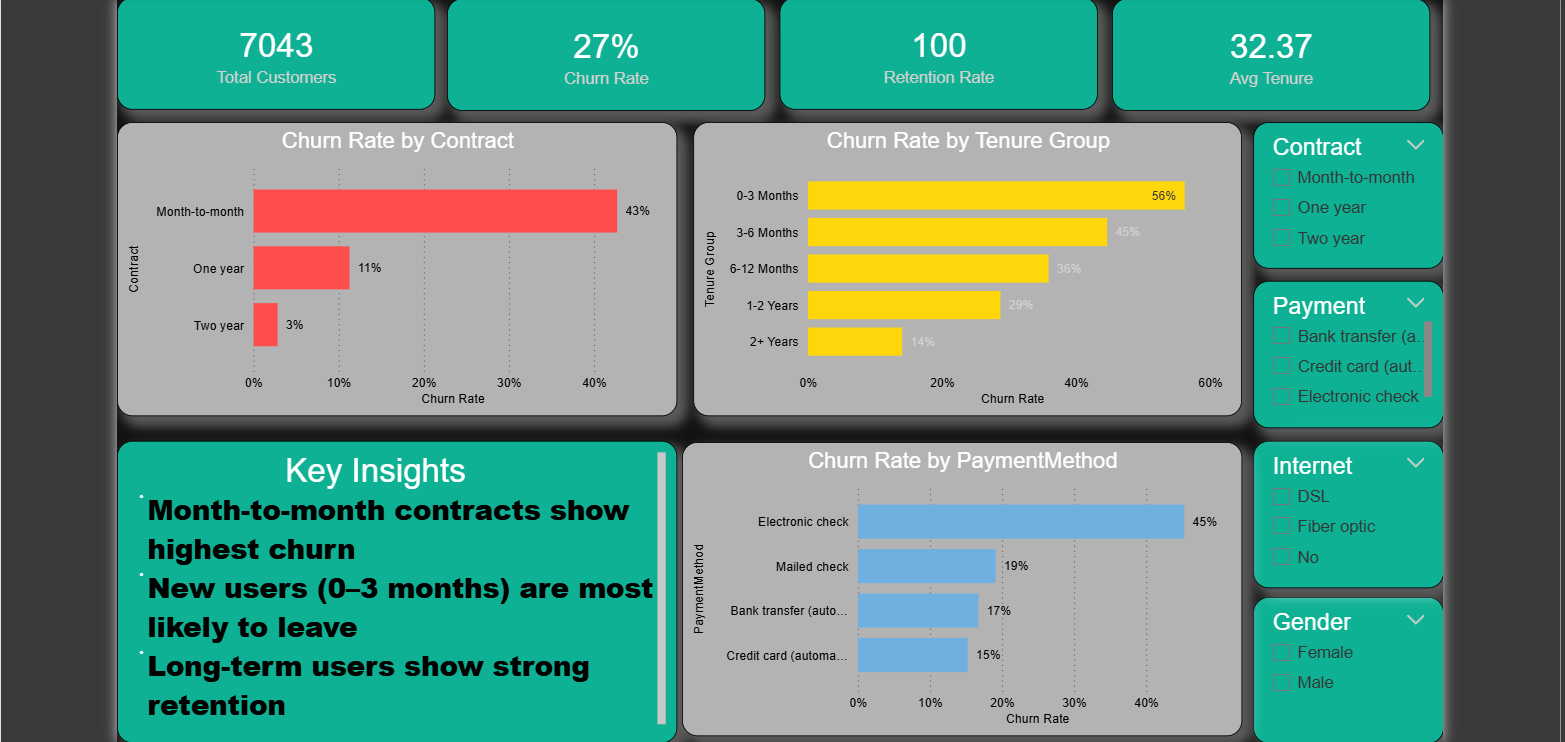

The page's visual inventory and layout, read from the dashboard file:
{"tool":"powerbi","page":{"name":"Page 1","canvas":[1280,720],"ordinal":0},"visuals":[{"type":"card","fields":{"Values":["WA_Fn-UseC_-Telco-Customer-Churn.Total Customers"]},"box":[0,0,307.4,108.4],"z":0},{"type":"card","fields":{"Values":["WA_Fn-UseC_-Telco-Customer-Churn.Churn Rate"]},"box":[318.4,1.4,307.4,108.4],"z":1000},{"type":"card","fields":{"Values":["WA_Fn-UseC_-Telco-Customer-Churn.Retention Rate"]},"box":[639.5,0,307.4,108.4],"z":2000},{"type":"card","fields":{"Values":["WA_Fn-UseC_-Telco-Customer-Churn.Avg Tenure"]},"box":[960.6,1.4,307.4,108.4],"z":3000},{"type":"clusteredBarChart","fields":{"Category":["WA_Fn-UseC_-Telco-Customer-Churn.Contract"],"Y":["WA_Fn-UseC_-Telco-Customer-Churn.Churn Rate"]},"box":[0,120.8,540.7,284],"z":4000},{"type":"barChart","fields":{"Category":["WA_Fn-UseC_-Telco-Customer-Churn.Tenure Group"],"Y":["WA_Fn-UseC_-Telco-Customer-Churn.Churn Rate"]},"box":[555.7,120.8,529.7,284],"z":5000},{"type":"slicer","fields":{"Values":["WA_Fn-UseC_-Telco-Customer-Churn.gender"]},"box":[1096.4,579.1,183.9,141.3],"z":6000},{"type":"slicer","fields":{"Values":["WA_Fn-UseC_-Telco-Customer-Churn.Contract"]},"box":[1096.4,120.8,183.9,141.3],"z":7000},{"type":"slicer","fields":{"Values":["WA_Fn-UseC_-Telco-Customer-Churn.InternetService"]},"box":[1096.4,428.1,183.9,142.7],"z":8000},{"type":"slicer","fields":{"Values":["WA_Fn-UseC_-Telco-Customer-Churn.PaymentMethod"]},"box":[1096.4,274.4,183.9,142.7],"z":9000},{"type":"textbox","box":[0,428.1,540.7,292.3],"z":9001},{"type":"clusteredBarChart","fields":{"Category":["WA_Fn-UseC_-Telco-Customer-Churn.PaymentMethod"],"Y":["WA_Fn-UseC_-Telco-Customer-Churn.Churn Rate"]},"box":[544.8,429.5,540.7,284],"z":9002}]}

Visuals, with their boxes in screenshot pixels (x1, y1, x2, y2):
card - WA_Fn-UseC_-Telco-Customer-Churn.Total Customers: 134 0 447 110
card - WA_Fn-UseC_-Telco-Customer-Churn.Churn Rate: 458 1 770 112
card - WA_Fn-UseC_-Telco-Customer-Churn.Retention Rate: 784 0 1097 110
card - WA_Fn-UseC_-Telco-Customer-Churn.Avg Tenure: 1110 1 1423 112
clusteredBarChart - WA_Fn-UseC_-Telco-Customer-Churn.Contract x WA_Fn-UseC_-Telco-Customer-Churn.Churn Rate: 134 123 684 411
barChart - WA_Fn-UseC_-Telco-Customer-Churn.Tenure Group x WA_Fn-UseC_-Telco-Customer-Churn.Churn Rate: 699 123 1237 411
slicer - WA_Fn-UseC_-Telco-Customer-Churn.gender: 1248 588 1435 732
slicer - WA_Fn-UseC_-Telco-Customer-Churn.Contract: 1248 123 1435 266
slicer - WA_Fn-UseC_-Telco-Customer-Churn.InternetService: 1248 435 1435 580
slicer - WA_Fn-UseC_-Telco-Customer-Churn.PaymentMethod: 1248 279 1435 424
textbox: 134 435 684 732
clusteredBarChart - WA_Fn-UseC_-Telco-Customer-Churn.PaymentMethod x WA_Fn-UseC_-Telco-Customer-Churn.Churn Rate: 688 436 1237 725
